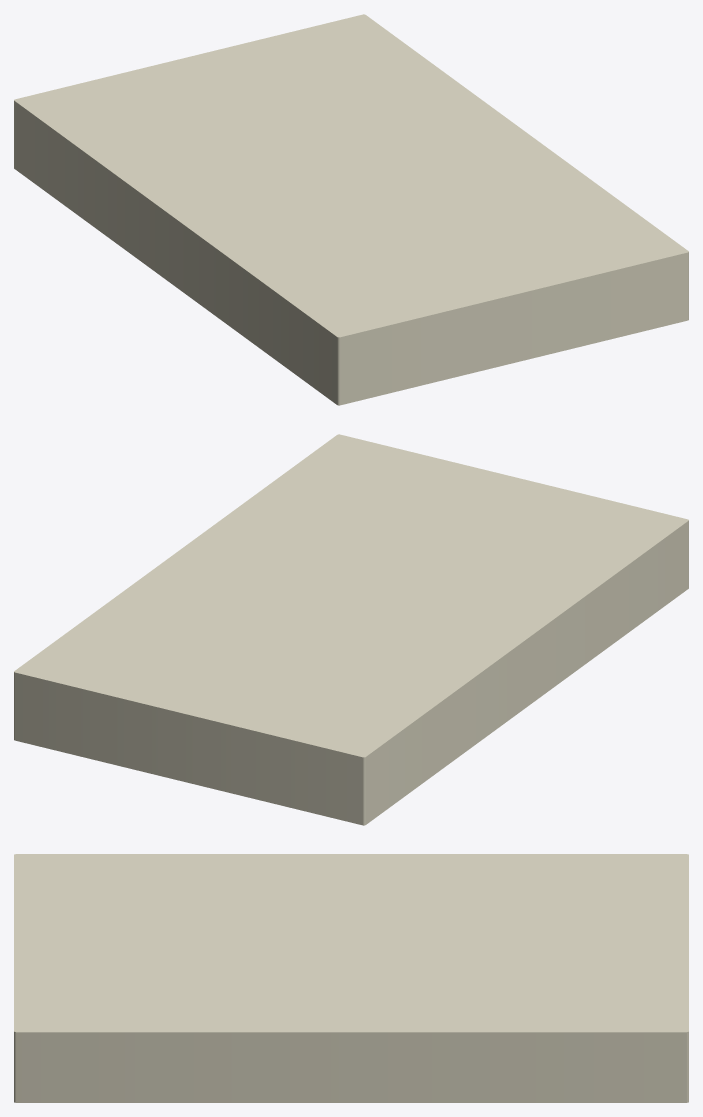
Rendered from jp_bedroom_book_paperback_pages.glb.
3 views of the same model, one above another, from view 1: azimuth 30°, elevation 25°; view 2: azimuth 150°, elevation 25°; view 3: azimuth 270°, elevation 25° (orthographic). The views are drawn at different scales.
Parts seen in each view (by area): view 1: book_block; view 2: book_block; view 3: book_block.
Part boxes in pixels (x1=…): book_block: x1=14, y1=14, x2=688, y2=405; book_block: x1=14, y1=434, x2=688, y2=825; book_block: x1=14, y1=854, x2=688, y2=1102.
Bounding box in the file's own units: 0.108 × 0.02 × 0.173.
